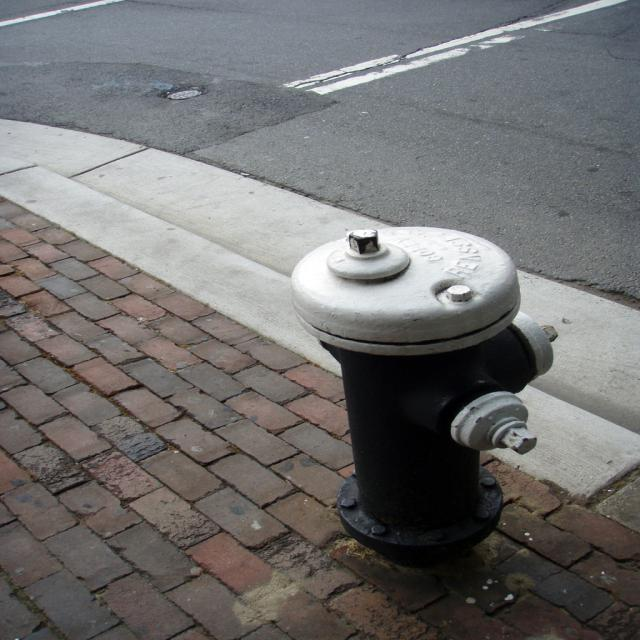fire_hydrant: (291, 220, 558, 560)
